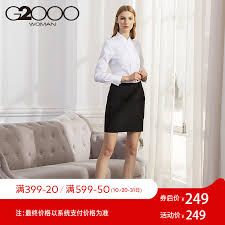F_tailored skirt: (103, 81, 148, 134)
